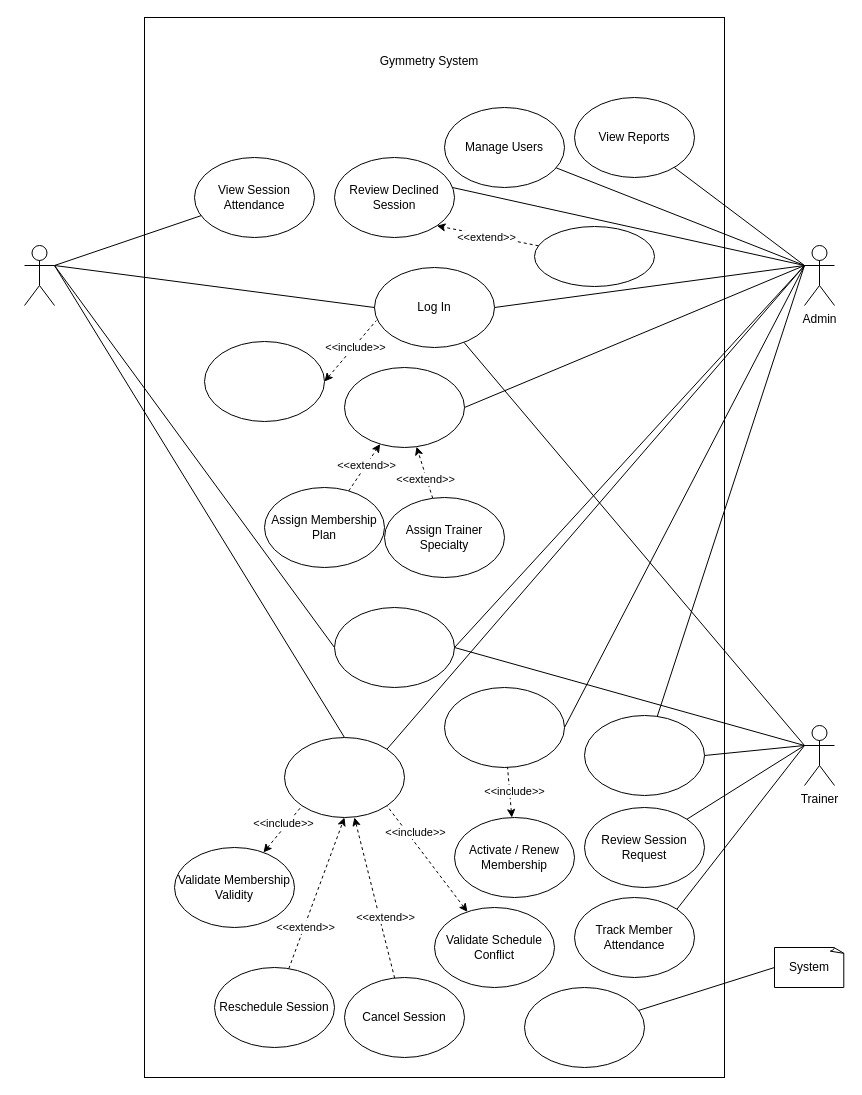
Some shapes in this 862 by 1095 pixel diagram are drawn without their labels. The centre of each missing label's shape, as x and y in pixels:
"Auto-Close Overdue Sessions" belongs at point (584, 1027).
"Book Session" belongs at point (344, 777).
"Change Password" belongs at point (394, 647).
"Member" belongs at point (39, 275).
"Reassign Session" belongs at point (594, 256).
"Record Payment" belongs at point (504, 727).
"Register User" belongs at point (404, 407).
"Track Trainer Attendance" belongs at point (644, 755).
"Verify Credentials" belongs at point (264, 381).
